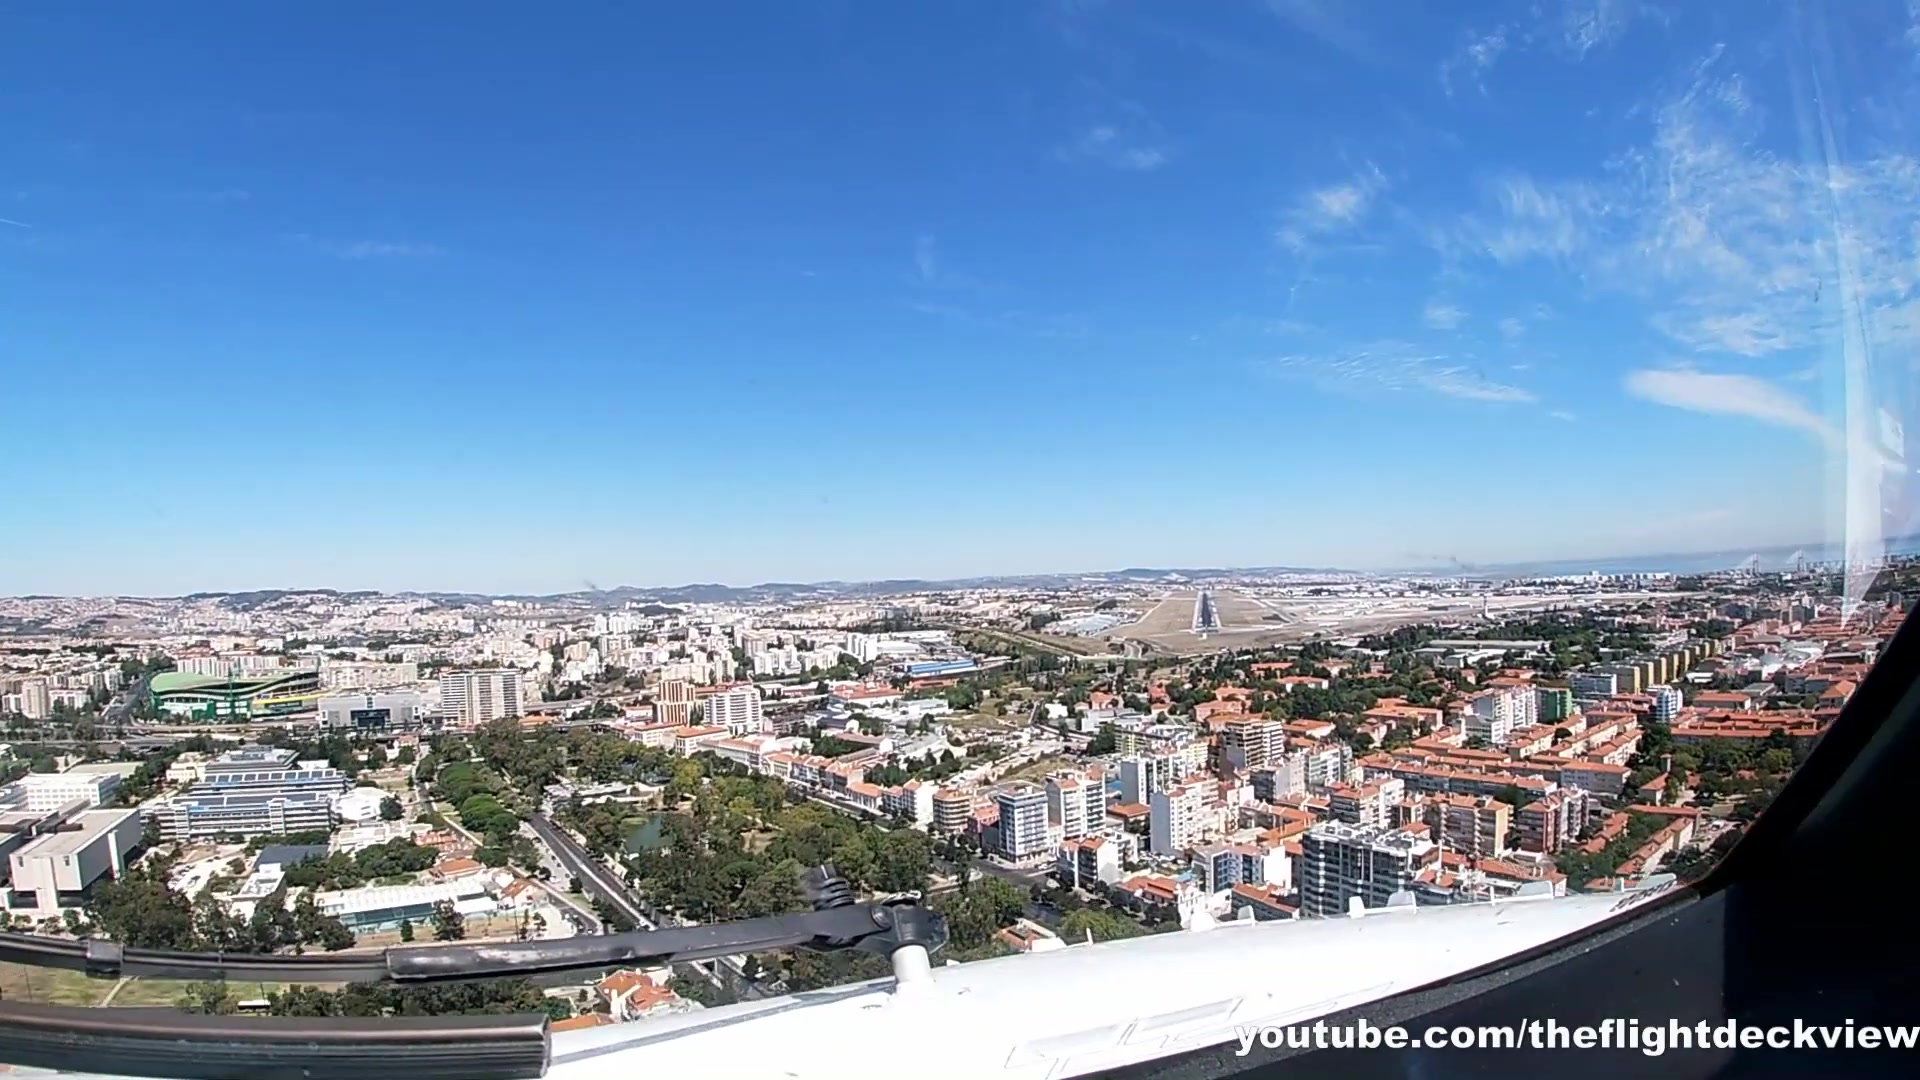runway: (1193, 591, 1221, 626)
